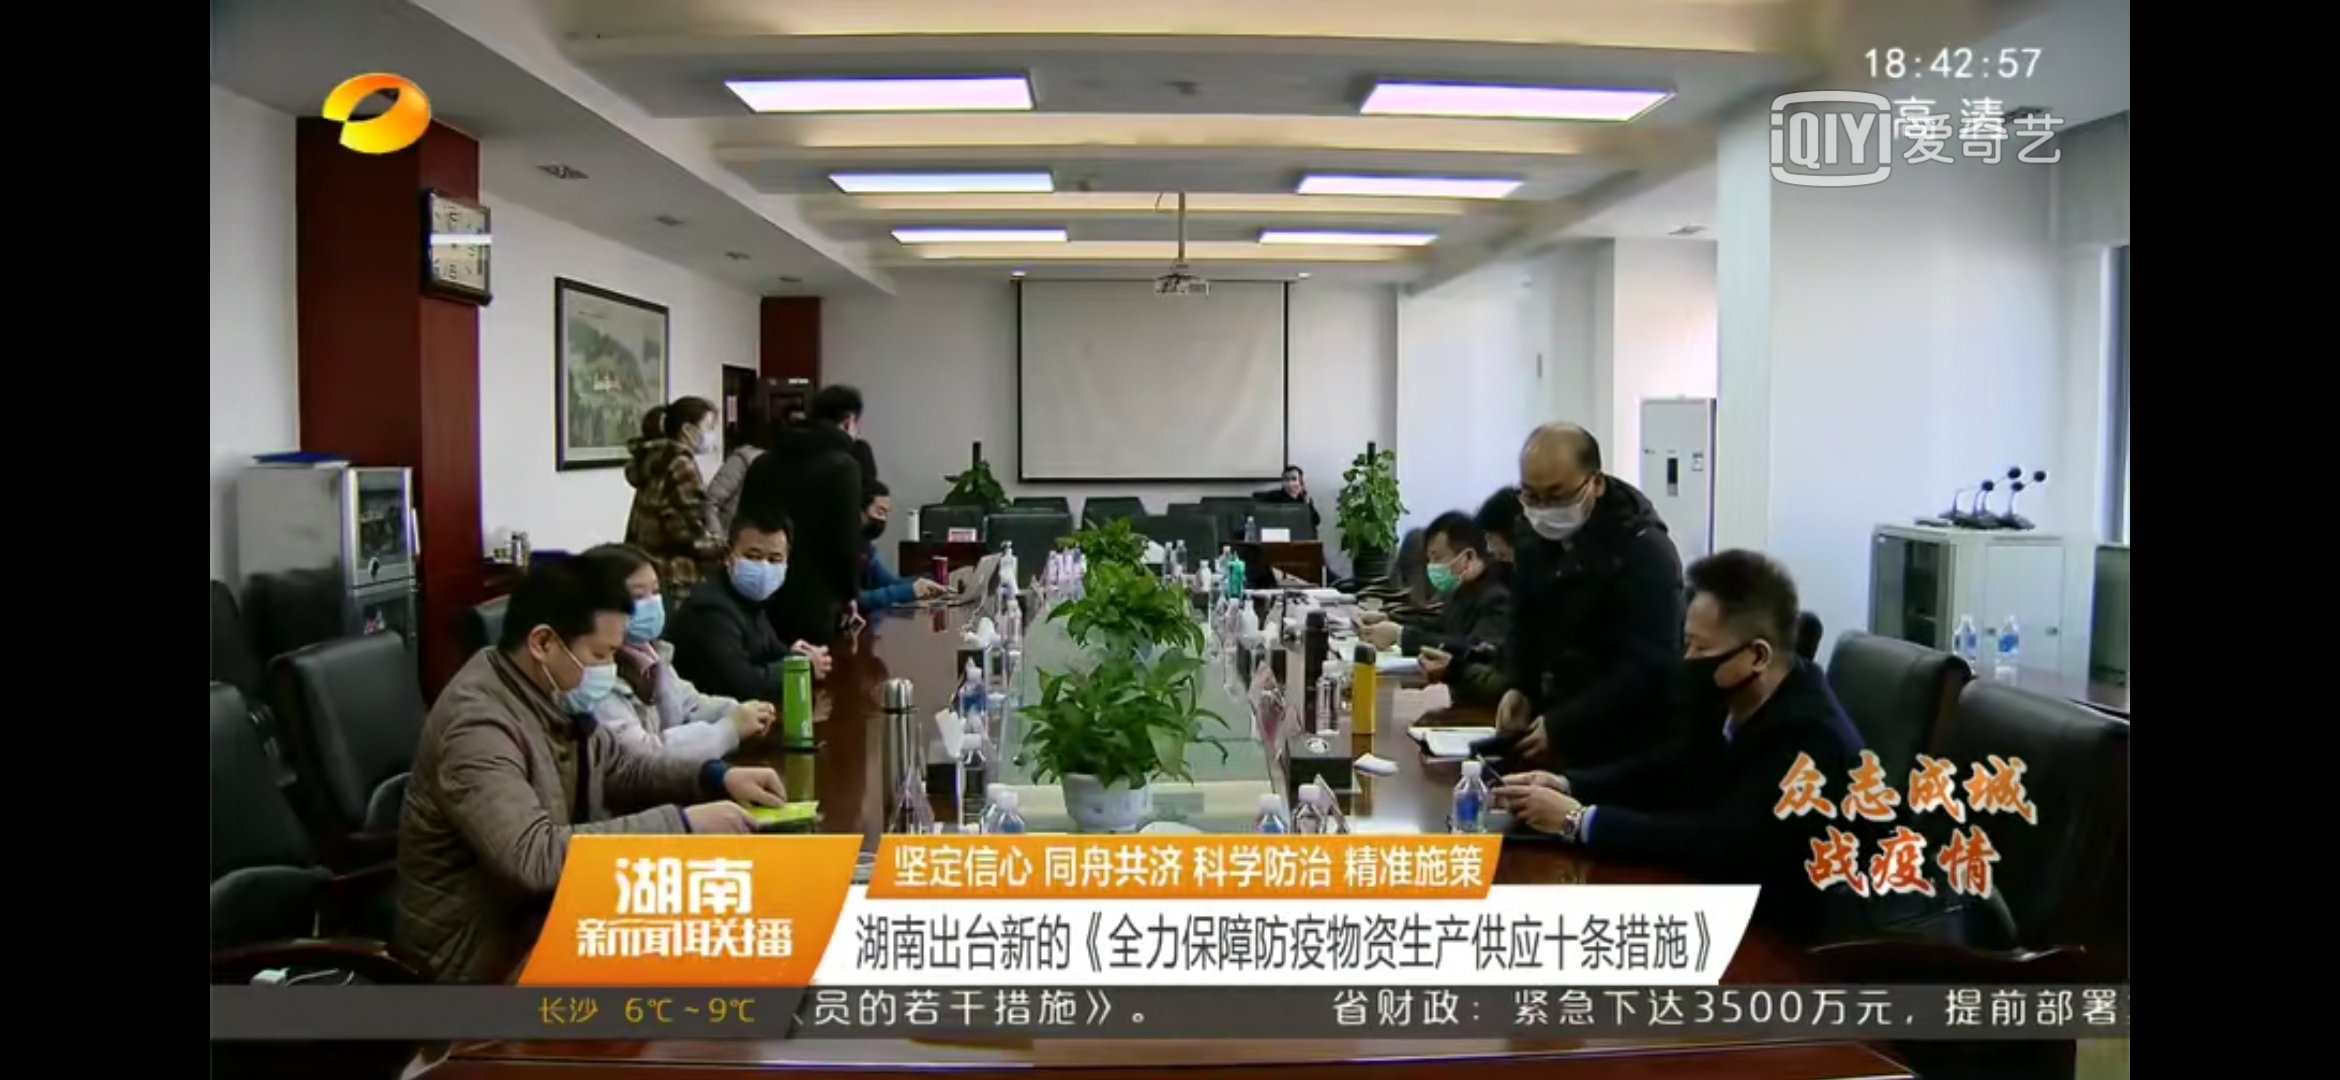correctlyWear: (1671, 603, 1774, 713), (527, 612, 621, 715), (1515, 464, 1607, 541), (615, 562, 670, 640), (728, 533, 788, 603), (1425, 539, 1477, 594), (675, 406, 719, 456), (1282, 471, 1303, 495)
